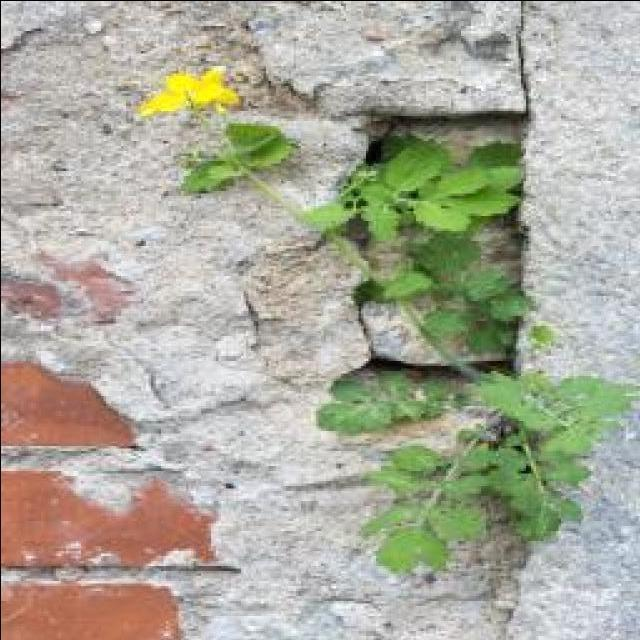crack: (2, 3, 294, 194), (0, 228, 162, 349), (350, 108, 529, 147), (414, 1, 515, 67), (147, 382, 267, 428), (500, 7, 552, 107), (0, 441, 160, 462), (0, 21, 61, 68), (4, 464, 190, 478), (356, 287, 385, 372), (239, 284, 263, 341), (143, 369, 173, 412), (139, 563, 243, 575), (0, 560, 96, 572), (123, 443, 142, 451)
vegetation: (138, 64, 635, 577)
